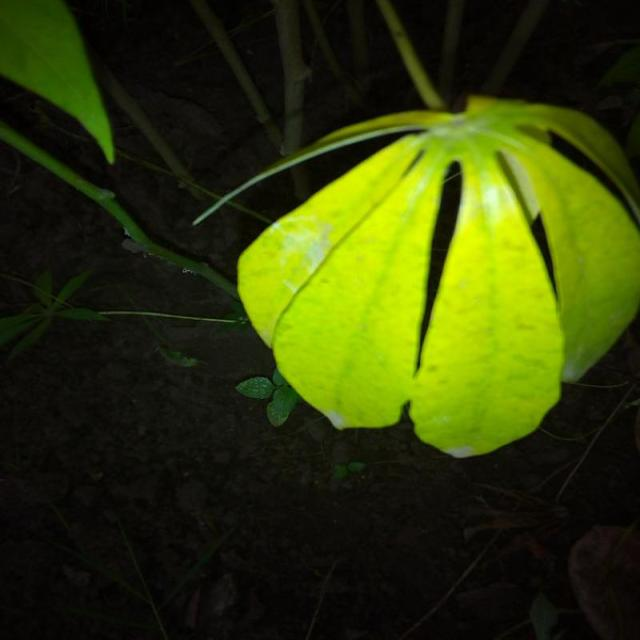cassava leaf: (233, 95, 638, 459)
